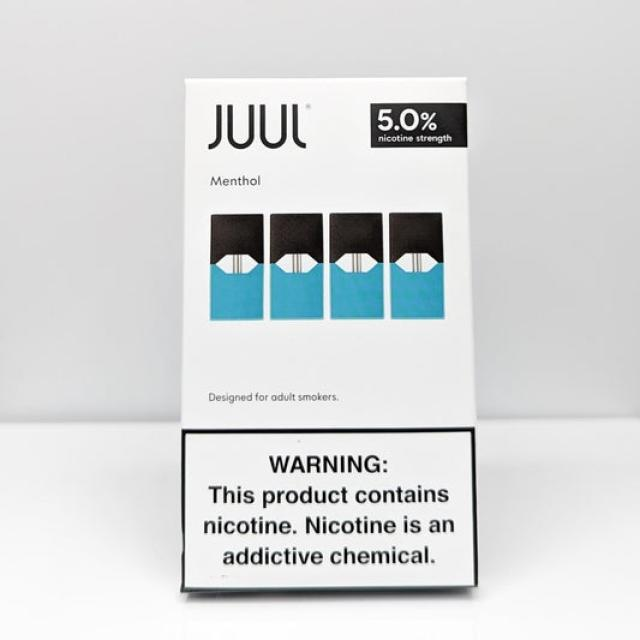Vape-images: (203, 175, 450, 326), (201, 87, 319, 160)
